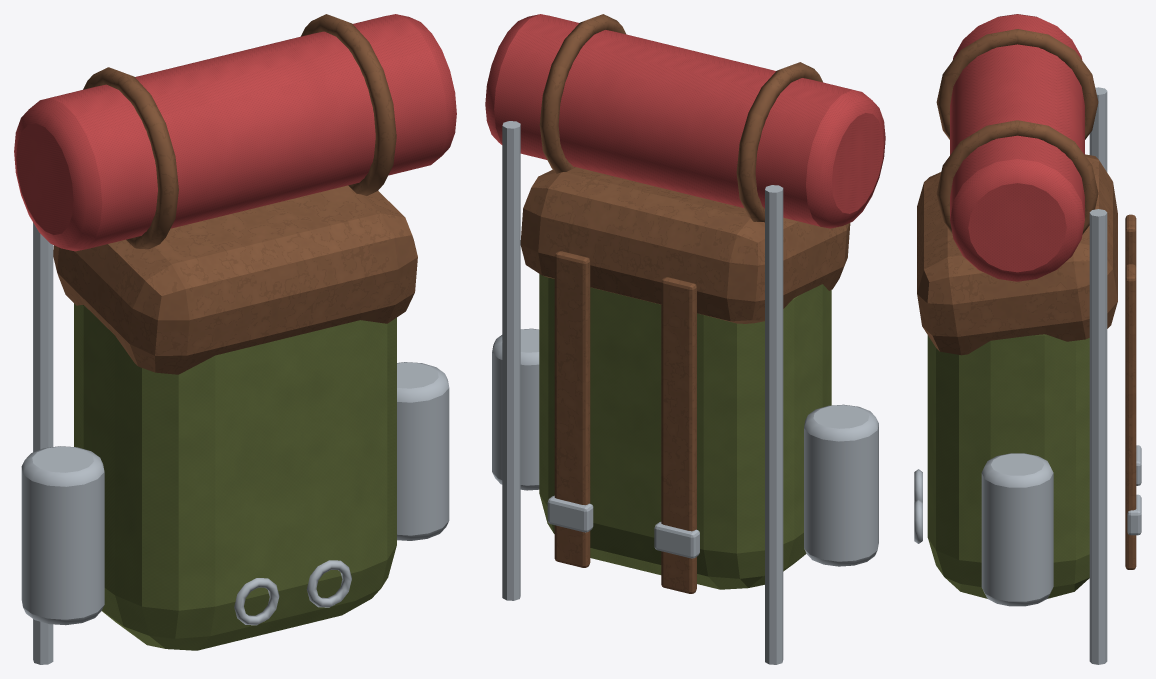
The model's file is backpack_explorer_roll.glb.
The picture shows the model from 3 angles, left to right: view 1: azimuth 30°, elevation 25°; view 2: azimuth 150°, elevation 25°; view 3: azimuth 270°, elevation 25°; orthographic projection. The views are drawn at different scales.
Parts seen in each view (by area): view 1: backpack_explorer_roll; view 2: backpack_explorer_roll; view 3: backpack_explorer_roll.
Part boxes in pixels (box(x1,y1,x2,y2)): backpack_explorer_roll: box(14, 14, 456, 664); backpack_explorer_roll: box(485, 14, 885, 664); backpack_explorer_roll: box(914, 14, 1141, 664).
Size of the model in its own units: 0.458 by 0.645 by 0.2528.
4 materials, 3 textured.
